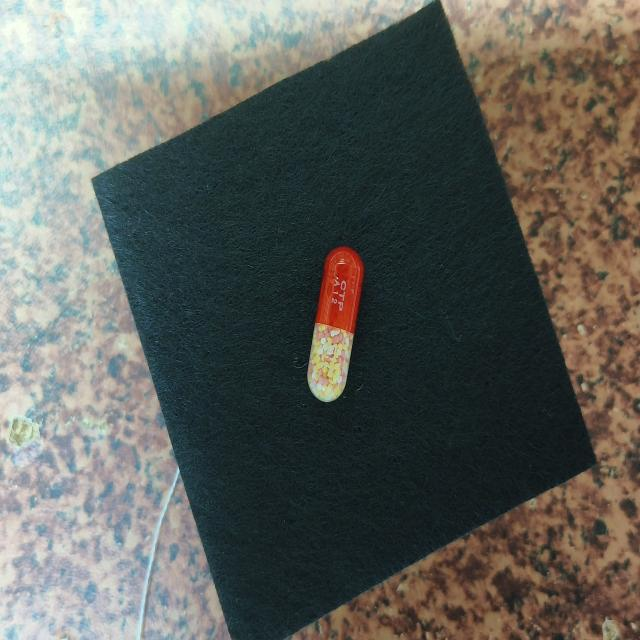Intact Capsule: (307, 247, 364, 402)
